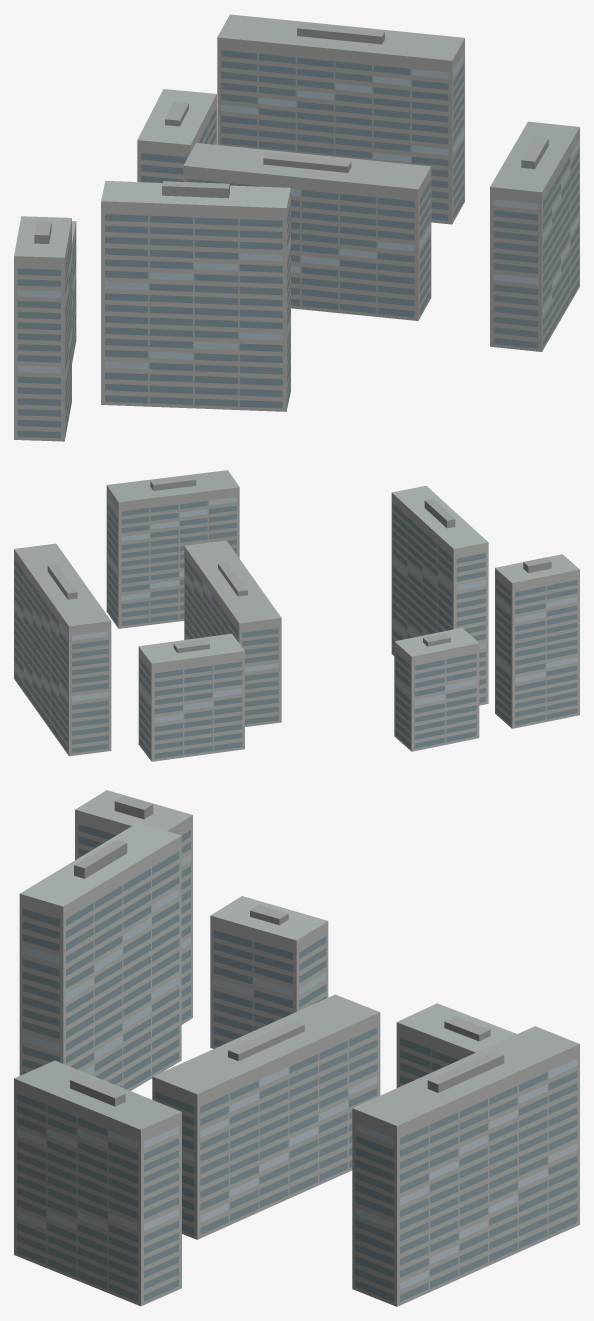
File: apt-a15704003.glb
The picture shows the model from 3 angles, top to bottom: view 1: azimuth 30°, elevation 25°; view 2: azimuth 150°, elevation 25°; view 3: azimuth 270°, elevation 25°; orthographic projection. The views are drawn at different scales.
Parts seen in each view (by area): view 1: apt-a15704003; view 2: apt-a15704003; view 3: apt-a15704003.
Part boxes in pixels (bbox=[...]): apt-a15704003: bbox=[14, 14, 579, 441]; apt-a15704003: bbox=[14, 470, 579, 761]; apt-a15704003: bbox=[14, 790, 579, 1306].
Bounding box in the file's own units: 146 × 51 × 111.
